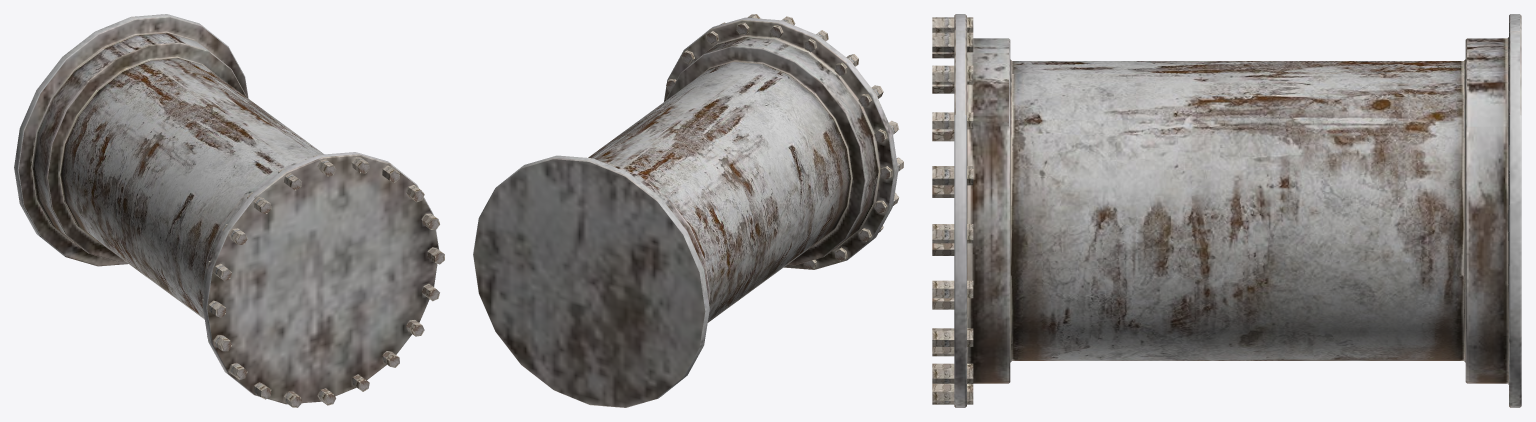
File: SM_Pipe_Straight_Short.glb
3 renders of one model, left to right at view 1: azimuth 30°, elevation 25°; view 2: azimuth 150°, elevation 25°; view 3: azimuth 270°, elevation 25°, orthographic. The views are drawn at different scales.
Parts seen in each view (by area): view 1: SM_Pipe_Straight_Short; view 2: SM_Pipe_Straight_Short; view 3: SM_Pipe_Straight_Short.
Part boxes in pixels (bbox=[...]): SM_Pipe_Straight_Short: bbox=[14, 14, 444, 407]; SM_Pipe_Straight_Short: bbox=[473, 14, 903, 407]; SM_Pipe_Straight_Short: bbox=[932, 14, 1521, 407].
Bounding box in the file's own units: 0.348 × 0.348 × 0.5164.
1 material, 1 textured.
